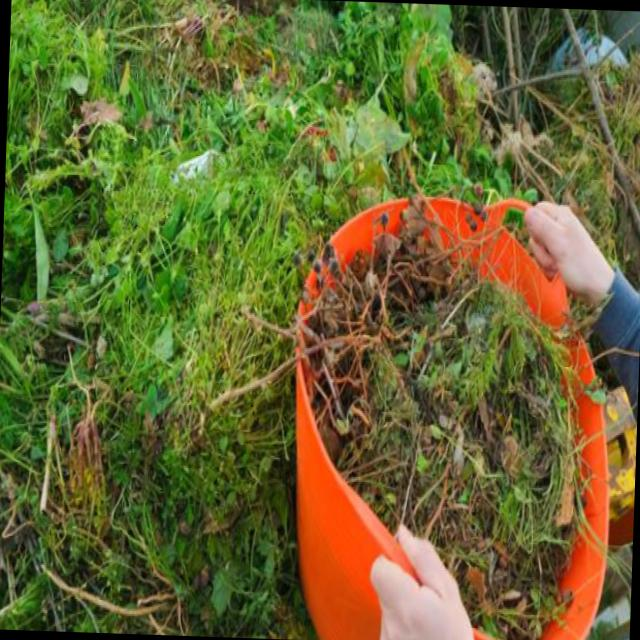paper: (321, 264, 528, 460), (5, 0, 108, 157), (56, 354, 121, 540)
